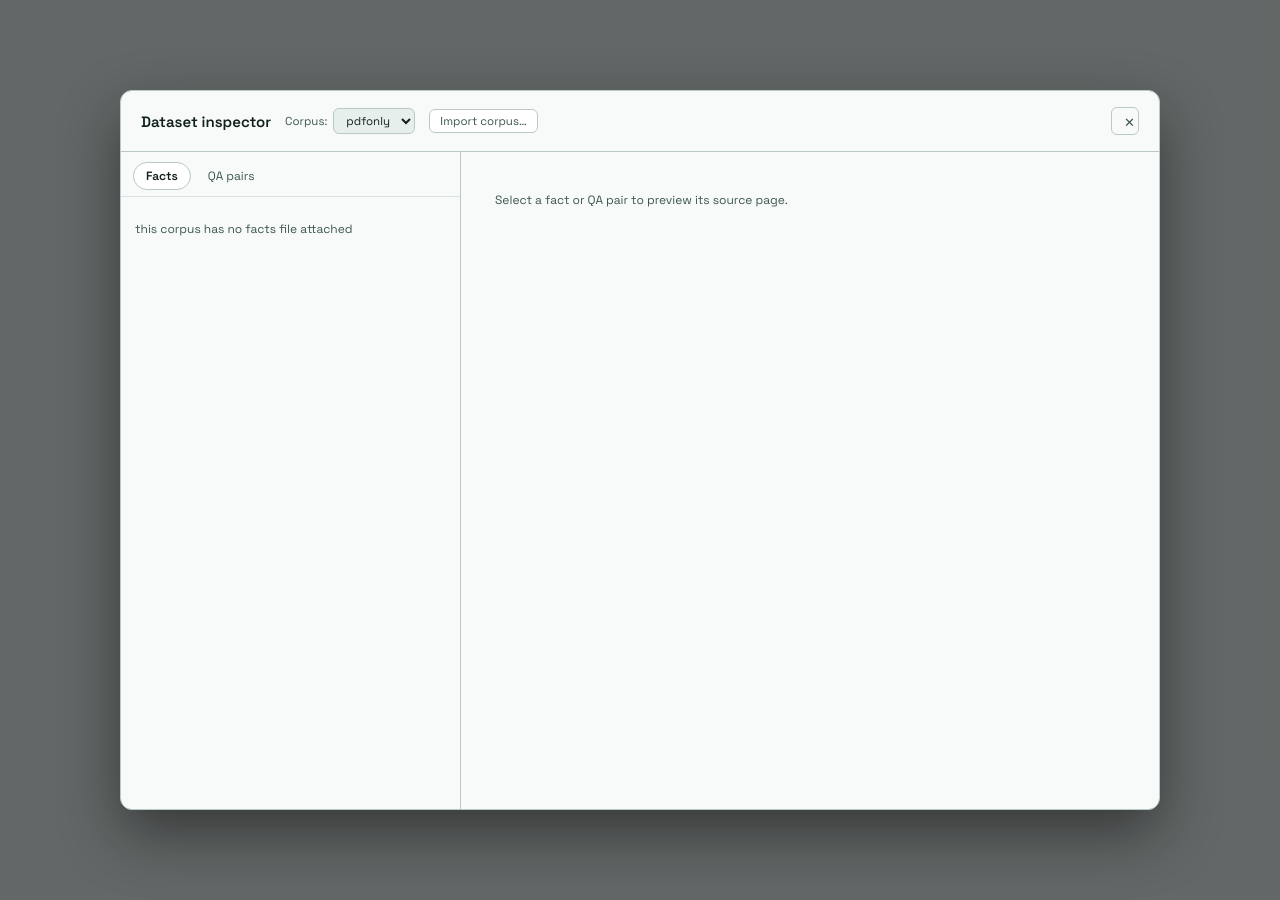
Test: DatasetInspectorPanel › shows an honest empty state when the entry has no facts artifact
Expected: the text "this corpus has no facts file attached" is shown, [135,221,353,237]
switching to QA shows its own honest line, never a crash
Click the tab "QA pairs" at [231, 176], box [195,162,268,190]
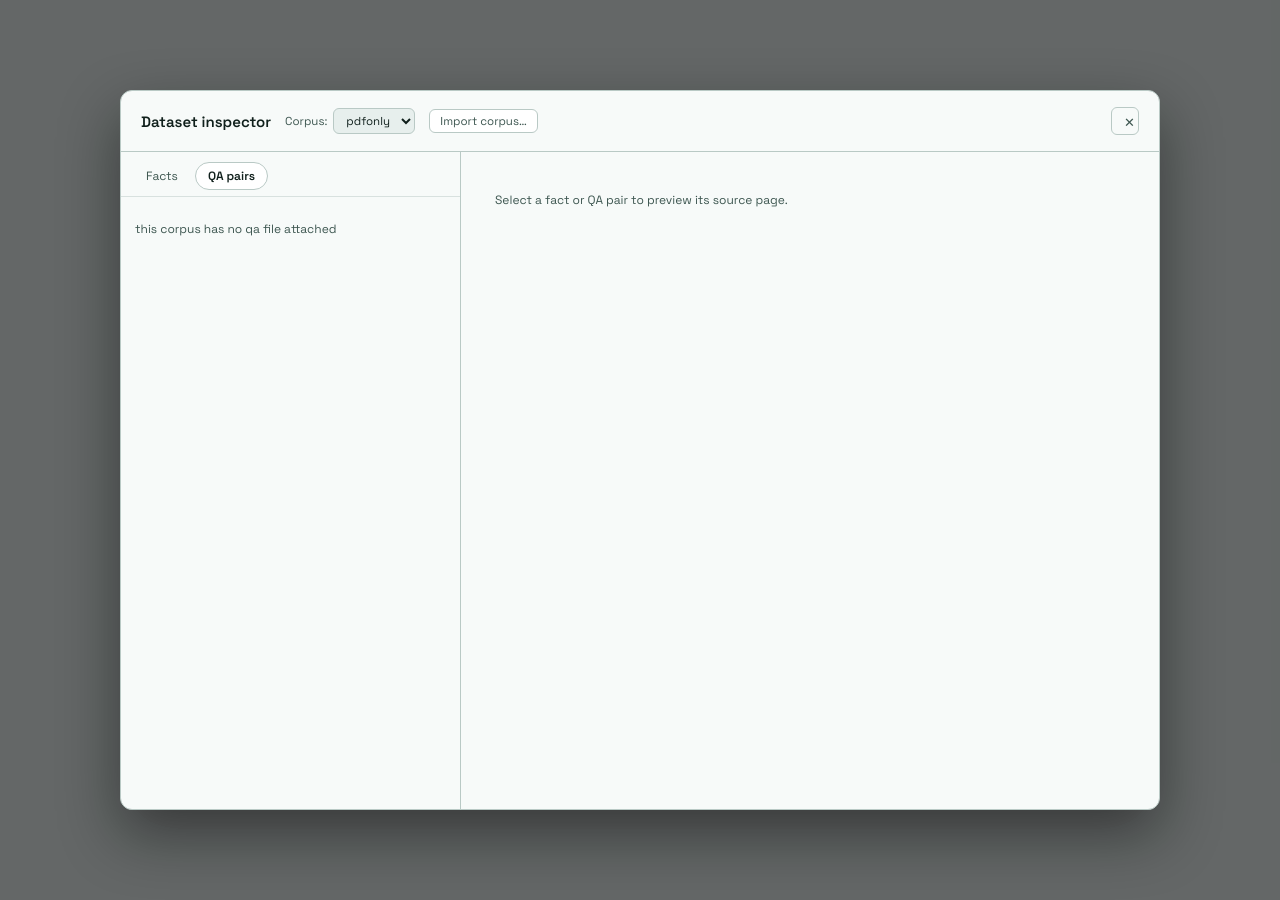
Expected: the text "this corpus has no qa file attached" is shown, [135,221,336,237]
